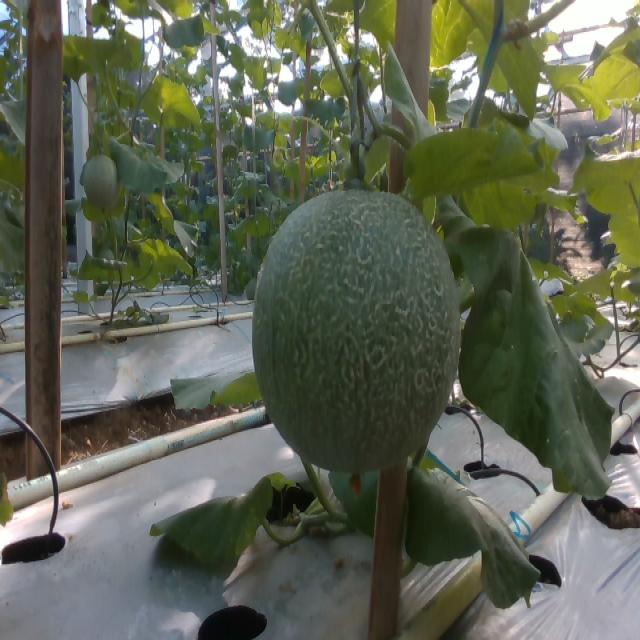melon: (255, 192, 461, 473)
